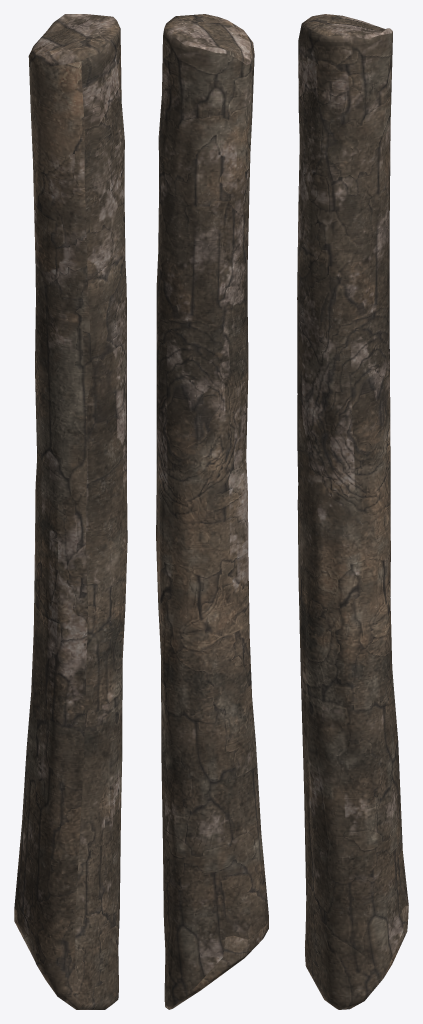
The model's file is SM_Log_B.fbx.
The picture shows the model from 3 angles, left to right: view 1: azimuth 30°, elevation 25°; view 2: azimuth 210°, elevation 25°; view 3: azimuth 270°, elevation 25°; orthographic projection.
Parts seen in each view (by area): view 1: SM_Log_B_LOD0; view 2: SM_Log_B_LOD0; view 3: SM_Log_B_LOD0.
Boxes of the visible parts, box(x1,y1,x2,y2) form: SM_Log_B_LOD0: box(14, 14, 127, 1009); SM_Log_B_LOD0: box(156, 14, 268, 1009); SM_Log_B_LOD0: box(297, 14, 408, 1009).
Bounding box in the file's own units: 42.49 × 46.31 × 447.
